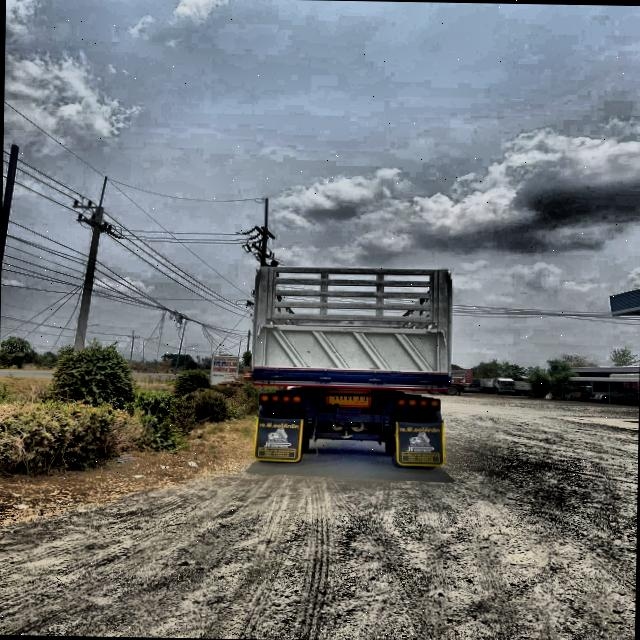trailer: (208, 243, 476, 510)
